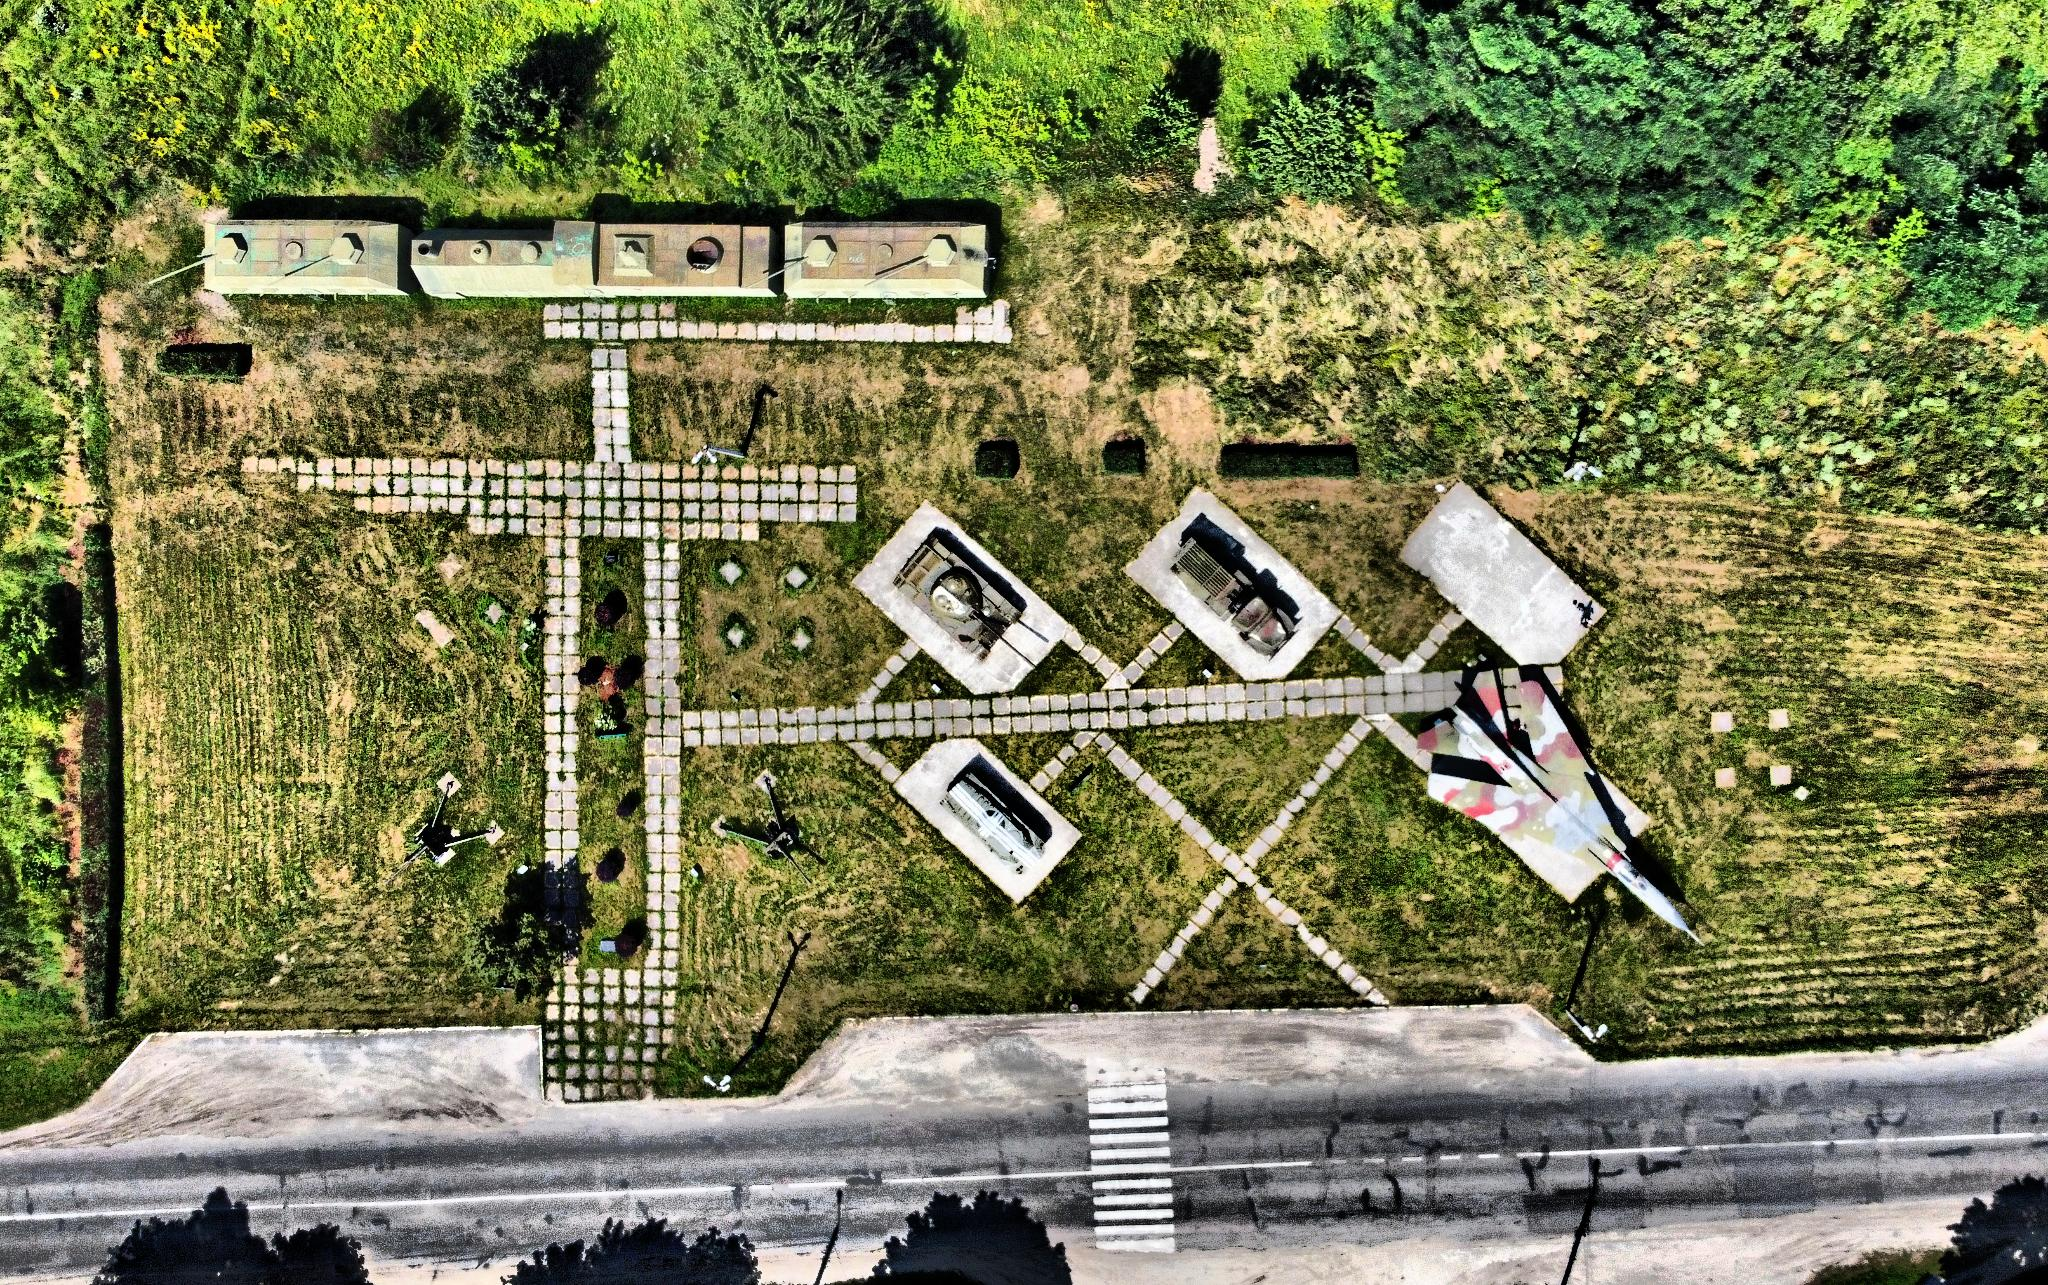military-vehicle: (892, 531, 1048, 663), (1170, 540, 1299, 662), (940, 773, 1051, 875)
